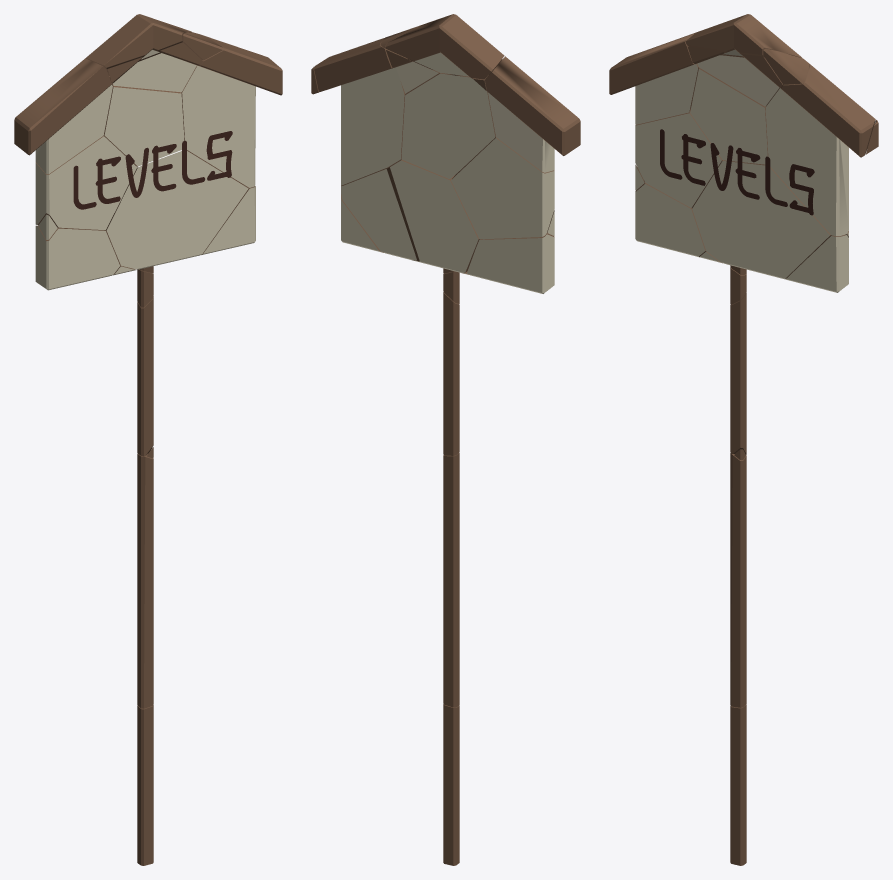
The model's file is bsign-levels.fbx.
3 views of the same model, side by side, from view 1: azimuth 30°, elevation 25°; view 2: azimuth 150°, elevation 25°; view 3: azimuth 330°, elevation 25° (orthographic).
Visible parts, largest first — view 1: sign_levels01.006, sign_levels01.002_cell.034, sign_levels01.002_cell.031, sign_levels01.002_cell.010, sign_levels01.002_cell.028, sign_levels01.002_cell.042, sign_levels01.002_cell.005, sign_levels01.002_cell.011, sign_levels01.002_cell.030, sign_levels01.002_cell.001, sign_levels01.002_cell.027, sign_levels01.002_cell.019 (+2 smaller); view 2: sign_levels01.002_cell.034, sign_levels01.002_cell.028, sign_levels01.002_cell.010, sign_levels01.002_cell.031, sign_levels01.006, sign_levels01.002_cell.011, sign_levels01.002_cell.042, sign_levels01.002_cell.005, sign_levels01.002_cell.029, sign_levels01.002_cell.001, sign_levels01.002_cell.027, sign_levels01.002_cell.040 (+1 smaller); view 3: sign_levels01.002_cell.034, sign_levels01.006, sign_levels01.002_cell.010, sign_levels01.002_cell.031, sign_levels01.002_cell.028, sign_levels01.002_cell.042, sign_levels01.002_cell.005, sign_levels01.002_cell.030, sign_levels01.002_cell.011, sign_levels01.002_cell.001, sign_levels01.002_cell.027, sign_levels01.002_cell.019 (+1 smaller).
Boxes of the visible parts, x1=… form: sign_levels01.006: x1=104, y1=140, x2=248, y2=273; sign_levels01.002_cell.034: x1=181, y1=34, x2=282, y2=187; sign_levels01.002_cell.031: x1=14, y1=58, x2=112, y2=174; sign_levels01.002_cell.010: x1=35, y1=136, x2=137, y2=229; sign_levels01.002_cell.028: x1=103, y1=76, x2=184, y2=166; sign_levels01.002_cell.042: x1=137, y1=454, x2=153, y2=708; sign_levels01.002_cell.005: x1=35, y1=225, x2=119, y2=290; sign_levels01.002_cell.011: x1=85, y1=14, x2=191, y2=75; sign_levels01.002_cell.030: x1=107, y1=42, x2=202, y2=92; sign_levels01.002_cell.001: x1=137, y1=705, x2=153, y2=865; sign_levels01.002_cell.027: x1=137, y1=296, x2=153, y2=456; sign_levels01.002_cell.019: x1=201, y1=186, x2=255, y2=254; sign_levels01.002_cell.034: x1=314, y1=38, x2=407, y2=186; sign_levels01.002_cell.028: x1=401, y1=70, x2=495, y2=179; sign_levels01.002_cell.010: x1=451, y1=137, x2=554, y2=239; sign_levels01.002_cell.031: x1=485, y1=56, x2=580, y2=172; sign_levels01.006: x1=382, y1=159, x2=479, y2=273; sign_levels01.002_cell.011: x1=385, y1=14, x2=504, y2=79; sign_levels01.002_cell.042: x1=443, y1=453, x2=459, y2=707; sign_levels01.002_cell.005: x1=466, y1=232, x2=554, y2=293; sign_levels01.002_cell.029: x1=341, y1=169, x2=416, y2=260; sign_levels01.002_cell.001: x1=443, y1=704, x2=459, y2=865; sign_levels01.002_cell.027: x1=443, y1=292, x2=459, y2=455; sign_levels01.002_cell.040: x1=386, y1=50, x2=438, y2=93; sign_levels01.002_cell.034: x1=765, y1=64, x2=875, y2=236; sign_levels01.006: x1=692, y1=143, x2=831, y2=279; sign_levels01.002_cell.010: x1=635, y1=108, x2=726, y2=208; sign_levels01.002_cell.031: x1=609, y1=32, x2=698, y2=124; sign_levels01.002_cell.028: x1=690, y1=67, x2=768, y2=165; sign_levels01.002_cell.042: x1=730, y1=453, x2=746, y2=707; sign_levels01.002_cell.005: x1=635, y1=180, x2=706, y2=257; sign_levels01.002_cell.030: x1=687, y1=46, x2=782, y2=106; sign_levels01.002_cell.011: x1=685, y1=14, x2=801, y2=57; sign_levels01.002_cell.001: x1=730, y1=704, x2=746, y2=865; sign_levels01.002_cell.027: x1=730, y1=292, x2=746, y2=454; sign_levels01.002_cell.019: x1=786, y1=234, x2=848, y2=292.
Bounding box in the file's own units: 78.58 × 248 × 9.52.
